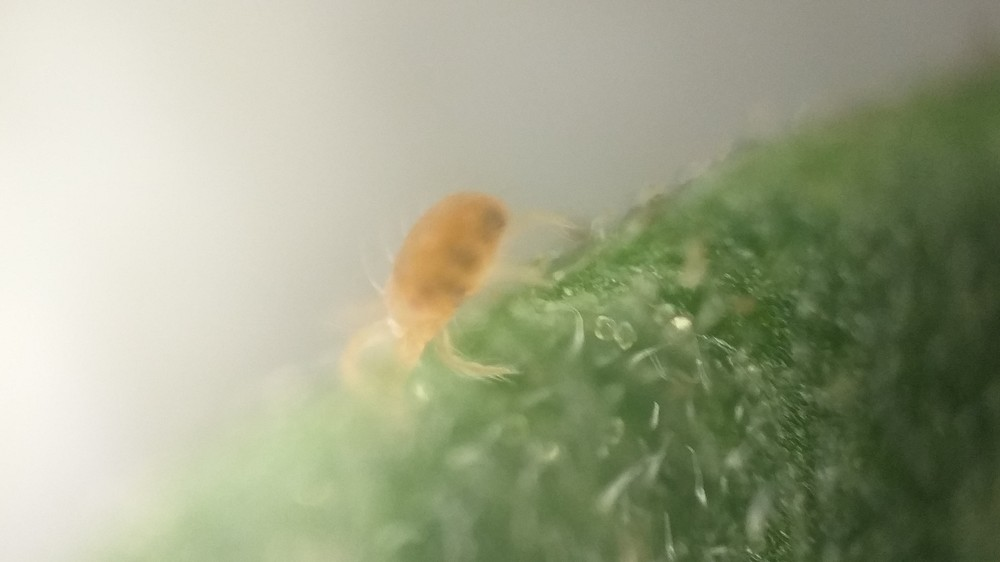Aracnido Rojo: (303, 178, 586, 415)
